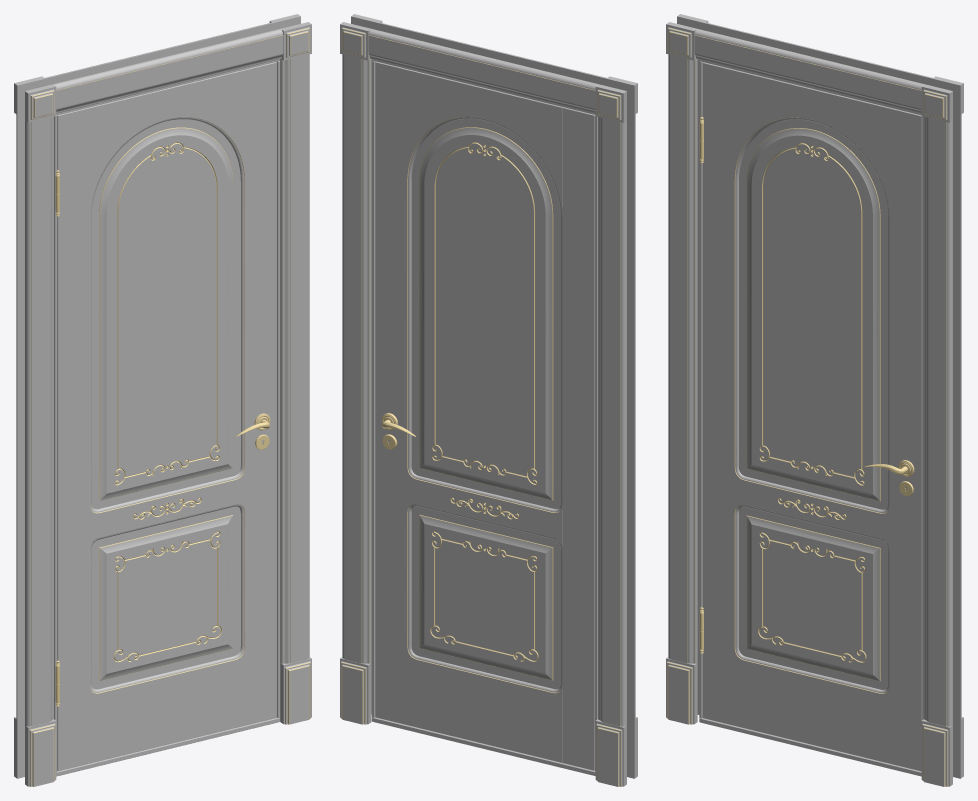
3 renders of one model, left to right at view 1: azimuth 30°, elevation 25°; view 2: azimuth 150°, elevation 25°; view 3: azimuth 330°, elevation 25°, orthographic.
Parts seen in each view (by area): view 1: Door 2; view 2: Door 2; view 3: Door 2.
Boxes of the visible parts, x1=… form: Door 2: x1=14, y1=14, x2=311, y2=786; Door 2: x1=340, y1=14, x2=637, y2=786; Door 2: x1=666, y1=14, x2=963, y2=786.
Bounding box in the file's own units: 35649 × 83268 × 5661.
